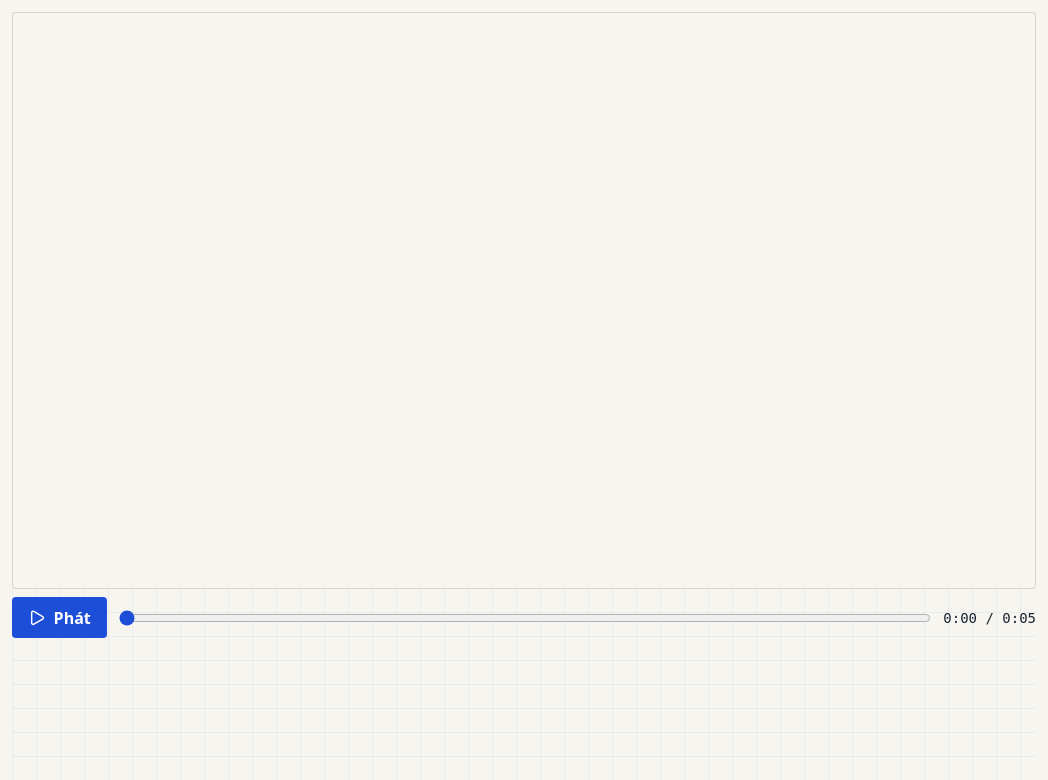
Scenario: LecturePreview › nút Phát / Dừng; ở cuối video bấm Phát thì chạy lại từ đầu
Click the button "Phát".
click(59, 618)  # box 12,597 -> 107,638
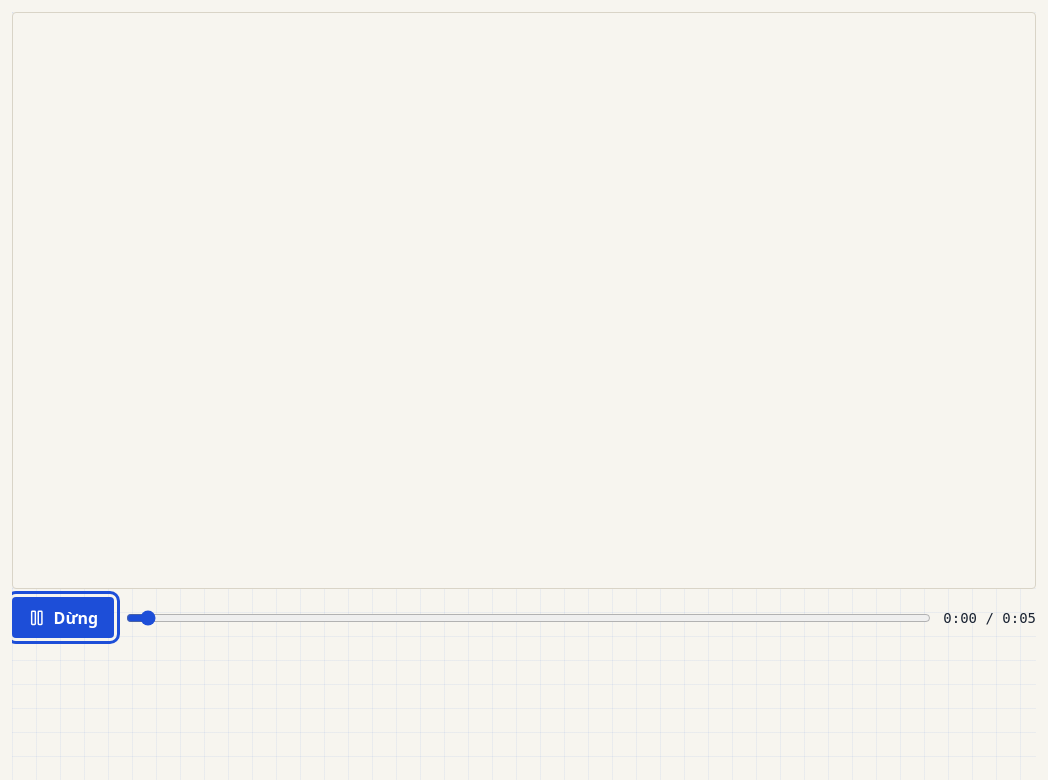
Click the button "Dừng".
click(63, 618)  # box 12,597 -> 114,638
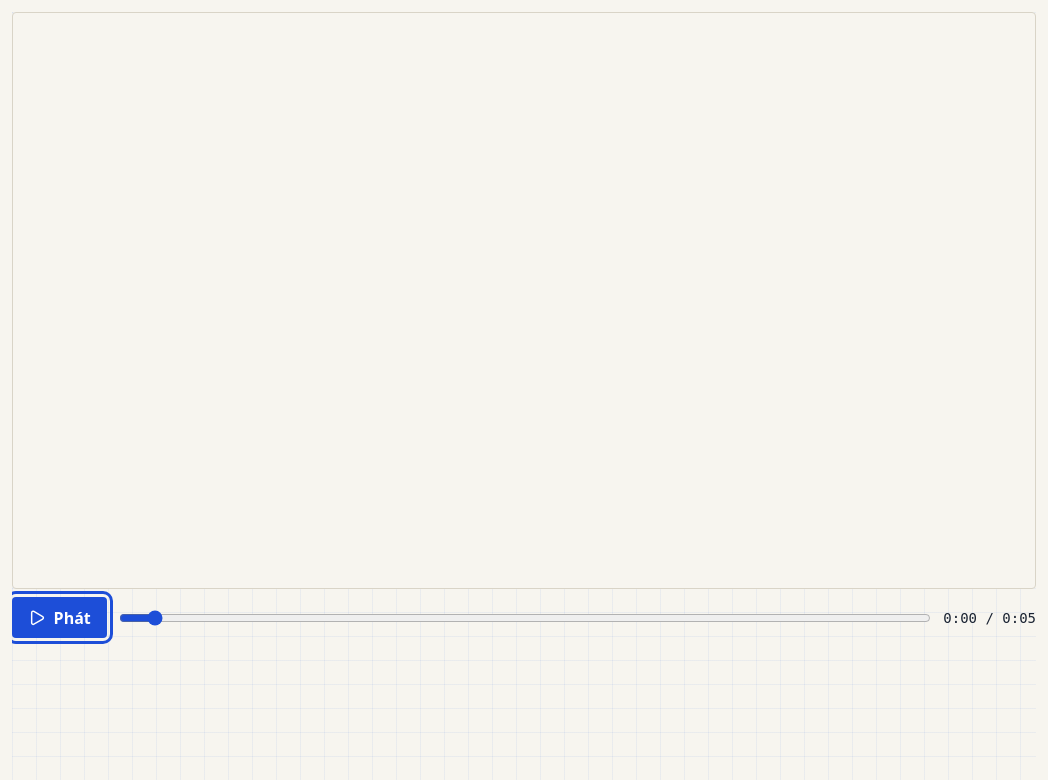
Expected: the button "Phát" is shown, 12,597 -> 107,638
Set the slider named "Vị trí trong video" to "5.6" at (923, 618), box 119,610 -> 931,626
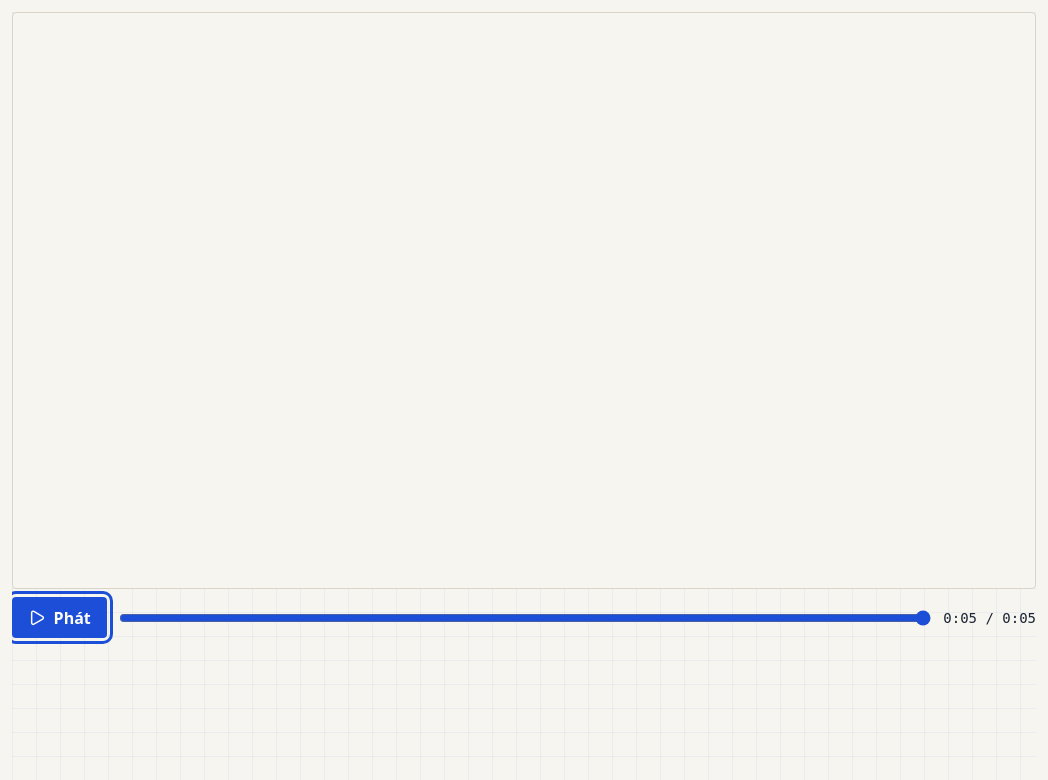
Click the button "Phát".
click(59, 618)  # box 12,597 -> 107,638
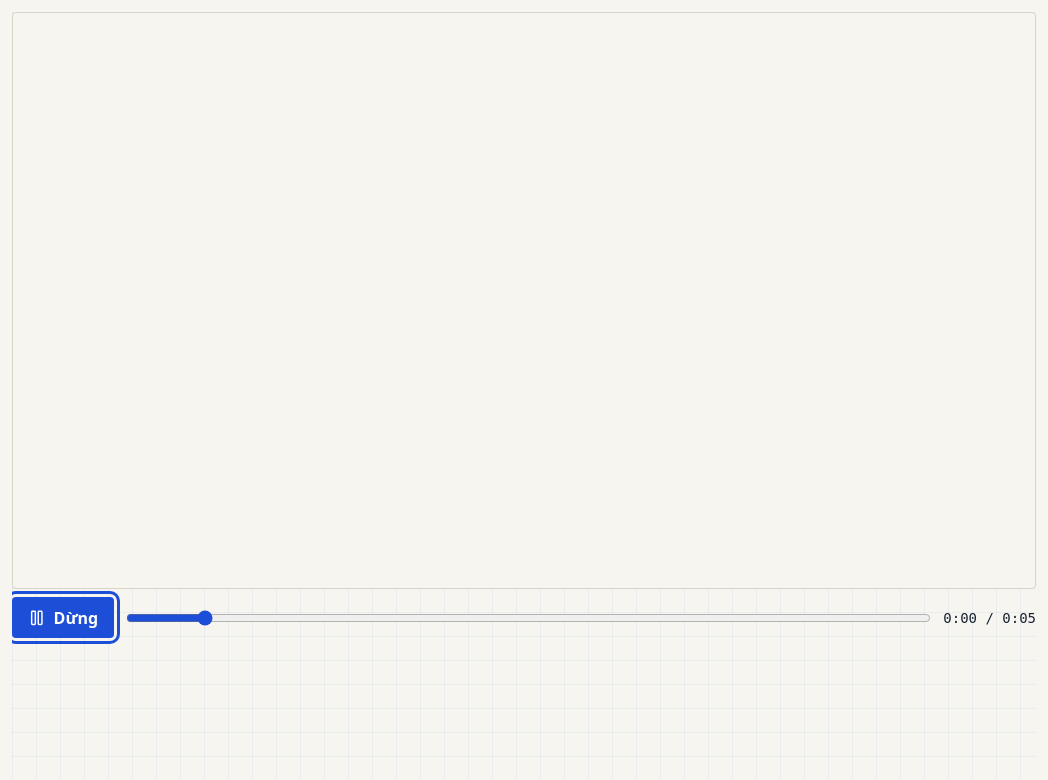
Expected: the button "Dừng" is shown, 12,597 -> 114,638
Expected: the text "0:00 / 0:05" is shown, 943,608 -> 1036,628
